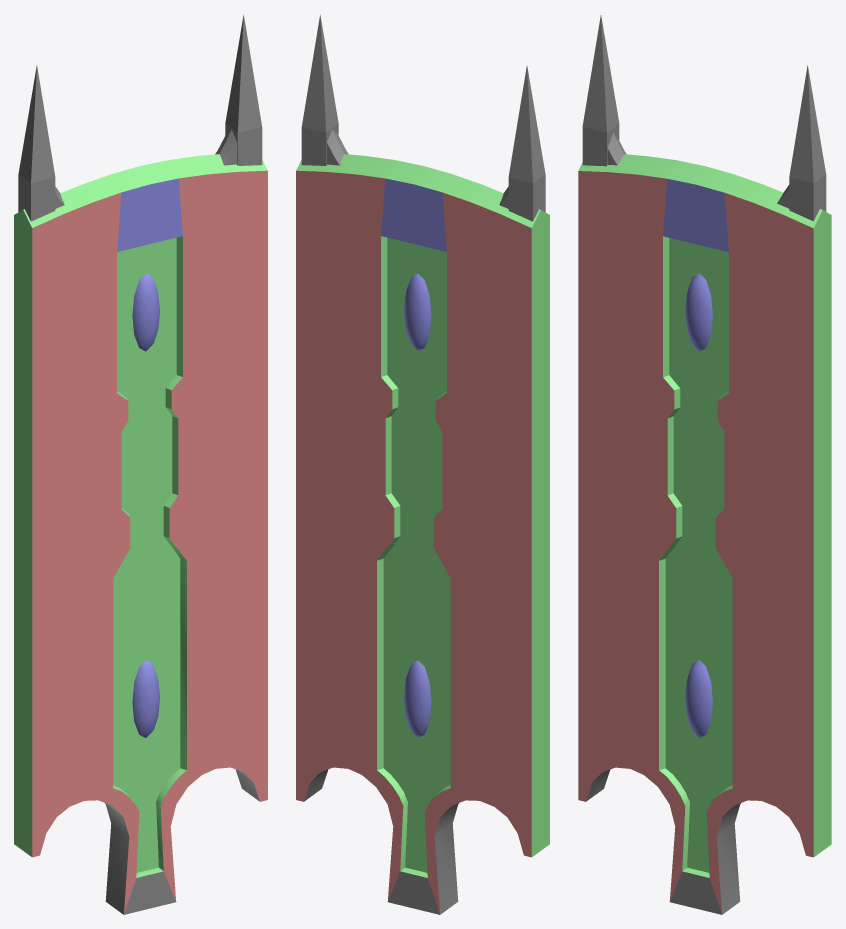
Rendered from hdrtower_p2_main.gltf.
3 views of the same model, side by side, from view 1: azimuth 30°, elevation 25°; view 2: azimuth 150°, elevation 25°; view 3: azimuth 330°, elevation 25° (orthographic).
Visible parts, largest first — view 1: hdrtower_p2_main; view 2: hdrtower_p2_main; view 3: hdrtower_p2_main.
Part boxes in pixels (<box>): hdrtower_p2_main: <box>14,14,267,914</box>; hdrtower_p2_main: <box>296,14,549,914</box>; hdrtower_p2_main: <box>578,15,831,914</box>.
Bounding box in the file's own units: 3.17 × 11.1 × 0.4697.
